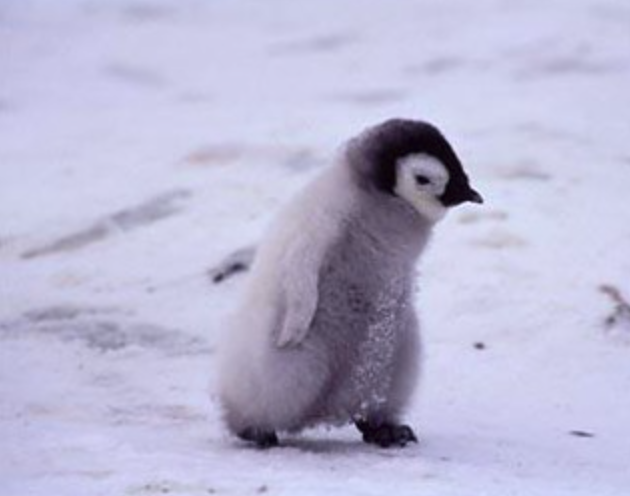penguin: (228, 112, 489, 459)
